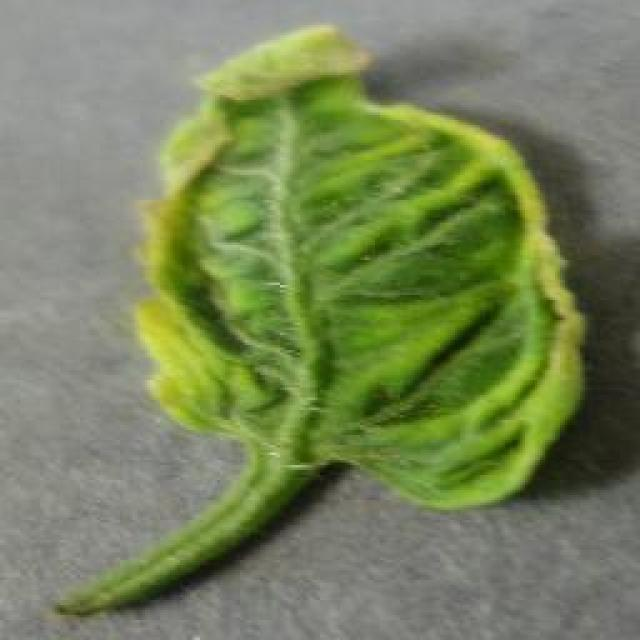Tomato yellow virus leaf: (131, 21, 584, 514)
